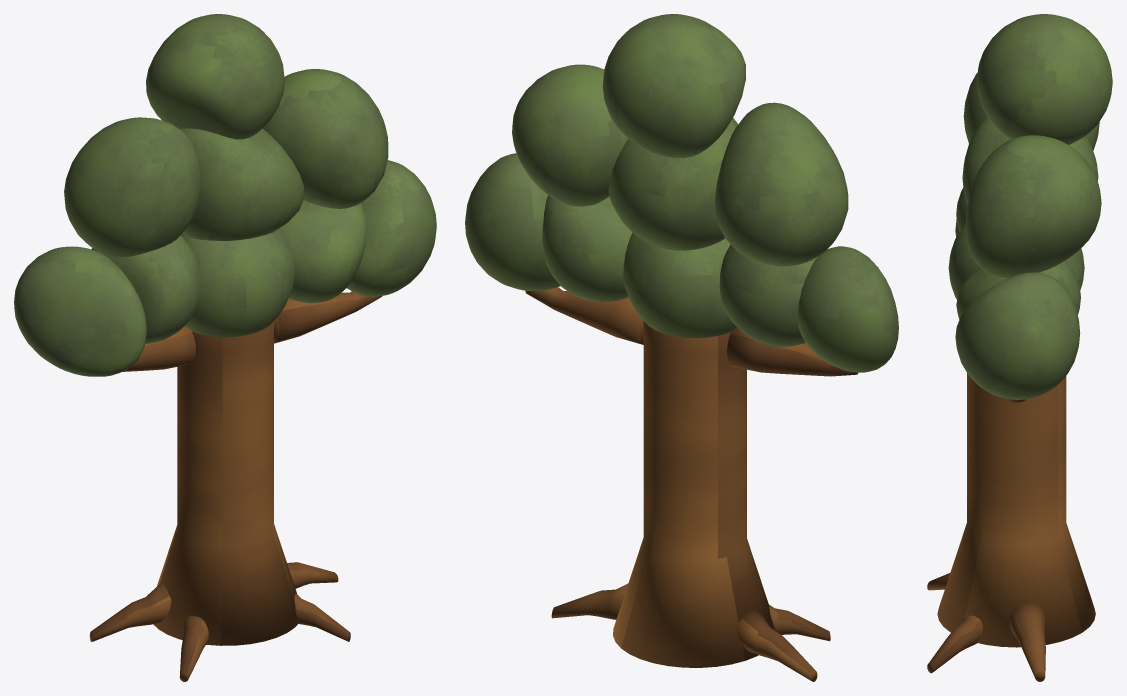
The model's file is tree2_textured.fbx.
3 renders of one model, left to right at view 1: azimuth 30°, elevation 25°; view 2: azimuth 150°, elevation 25°; view 3: azimuth 270°, elevation 25°, orthographic. The views are drawn at different scales.
Parts seen in each view (by area): view 1: leaves, tree_trunk; view 2: leaves, tree_trunk; view 3: leaves, tree_trunk.
Boxes of the visible parts, <box> form: leaves: <box>14,14,436,376</box>; tree_trunk: <box>89,291,382,681</box>; leaves: <box>465,14,898,372</box>; tree_trunk: <box>525,287,858,681</box>; leaves: <box>948,14,1112,399</box>; tree_trunk: <box>927,373,1095,681</box>.
Size of the model in its own units: 958 by 1365 by 373.
Materials: 2 (2 with a texture image).
